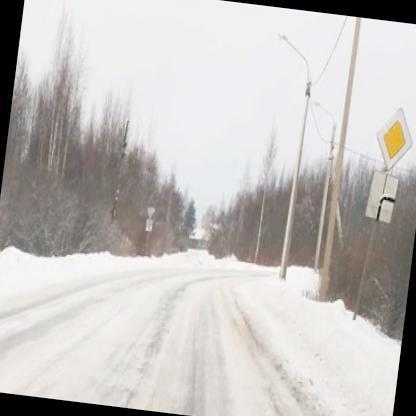road_sign: (376, 105, 416, 175), (364, 169, 399, 225)
